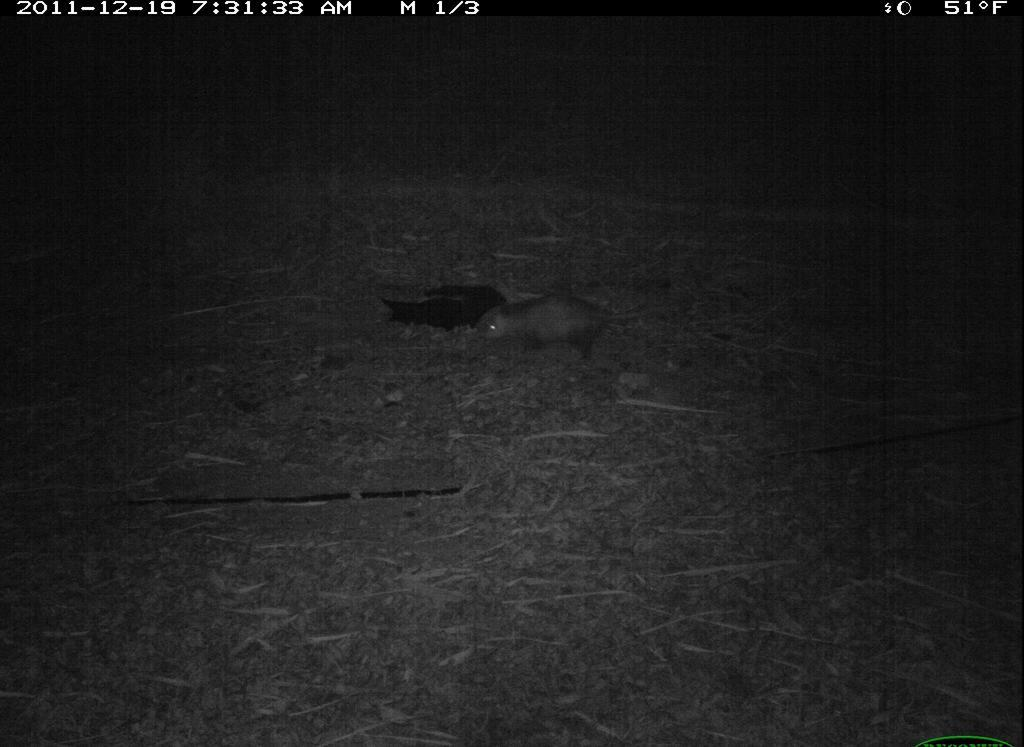opossum: (465, 283, 675, 367)
